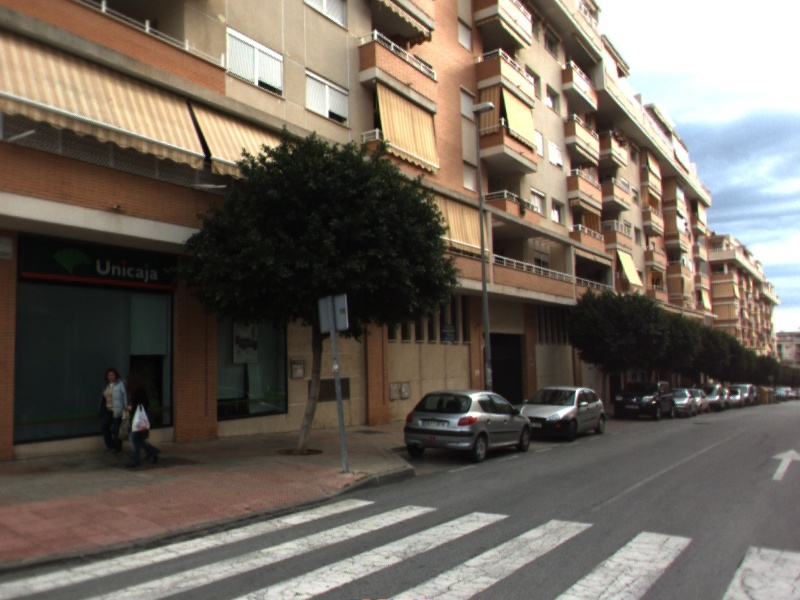STRAIGHT: (770, 448, 800, 482)
